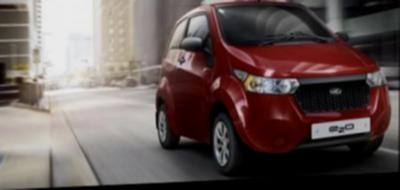License_Plate: (311, 118, 369, 135)
